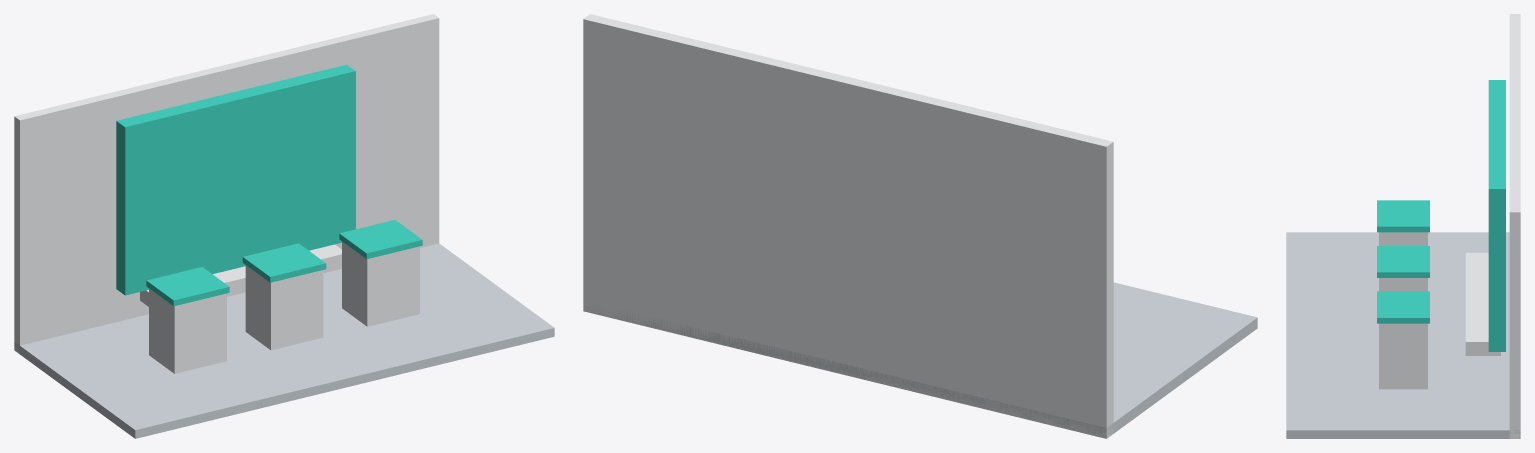
3 views of the same model, side by side, from view 1: azimuth 30°, elevation 25°; view 2: azimuth 150°, elevation 25°; view 3: azimuth 270°, elevation 25° (orthographic). The views are drawn at different scales.
Visible parts, largest first — view 1: Exhibition Booth Concept; view 2: Exhibition Booth Concept; view 3: Exhibition Booth Concept.
Boxes of the visible parts, x1=… form: Exhibition Booth Concept: x1=14, y1=14, x2=554, y2=438; Exhibition Booth Concept: x1=583, y1=14, x2=1257, y2=438; Exhibition Booth Concept: x1=1286, y1=14, x2=1520, y2=438.
Bounding box in the file's own units: 6 × 3.2 × 3.
